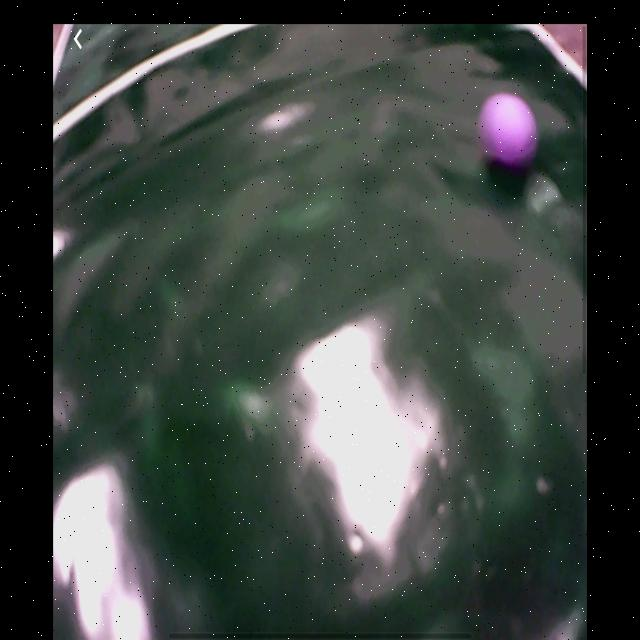ball: (477, 90, 538, 170)
